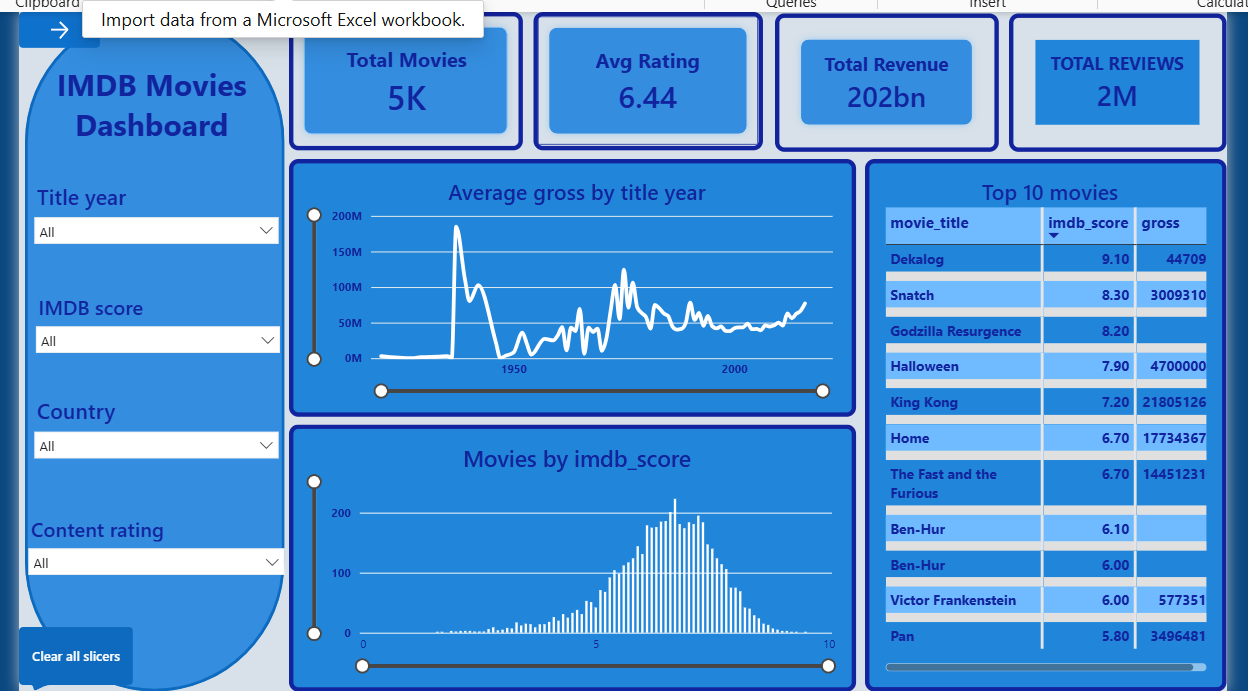

What the dashboard file says about the page in this screenshot:
{"tool":"powerbi","page":{"name":"dashboard","canvas":[1280,720],"ordinal":0},"visuals":[{"type":"cardVisual","fields":{"Data":["IMDBMovies.Total Movies"]},"box":[295.9,0,230.6,147.9],"z":0},{"type":"cardVisual","fields":{"Data":["IMDBMovies.Avg Rating"]},"box":[542.4,0,232.2,146.3],"z":1000},{"type":"cardVisual","fields":{"Data":["IMDBMovies.Total Revenue"]},"box":[788.9,1.6,243.4,144.7],"z":2000},{"type":"cardVisual","fields":{"Data":["IMDBMovies.TOTAL REVIEWS"]},"box":[1049.8,0,230.6,146.3],"z":3000},{"type":"lineChart","title":"Average gross by title year","fields":{"Y":["Avg(IMDBMovies.gross)"],"Category":["IMDBMovies.title_year"]},"box":[286.3,149.5,601.3,281.5],"z":4000},{"type":"tableEx","title":"Top 10 movies","fields":{"Values":["IMDBMovies.movie_title","IMDBMovies.imdb_score","IMDBMovies.gross"]},"box":[897.1,155.9,383.3,564.7],"z":5000},{"type":"columnChart","title":"Movies by imdb_score","fields":{"Category":["IMDBMovies.imdb_score"],"Y":["CountNonNull(IMDBMovies.movie_title)"]},"box":[295.9,437.4,591.7,283.1],"z":6000},{"type":"shape","box":[6.4,0,275.2,720.5],"z":7000},{"type":"slicer","fields":{"Values":["IMDBMovies.imdb_score"]},"box":[12.7,297.4,268.8,90.7],"z":8000},{"type":"slicer","fields":{"Values":["IMDBMovies.country"]},"box":[11.1,407.2,268.8,89.1],"z":9000},{"type":"slicer","fields":{"Values":["IMDBMovies.content_rating"]},"box":[4.8,532.9,281.5,93.8],"z":10000},{"type":"slicer","fields":{"Values":["IMDBMovies.title_year"]},"box":[11.1,179.7,268.8,79.5],"z":11000},{"type":"textbox","box":[6.4,54.1,268.8,92.3],"z":12000},{"type":"actionButton","box":[0,652.2,160.7,68.4],"z":13000}]}

Visuals, with their boxes in screenshot pixels (x1, y1, x2, y2):
cardVisual - IMDBMovies.Total Movies: <bbox>294, 10, 512, 150</bbox>
cardVisual - IMDBMovies.Avg Rating: <bbox>527, 10, 747, 148</bbox>
cardVisual - IMDBMovies.Total Revenue: <bbox>761, 11, 992, 148</bbox>
cardVisual - IMDBMovies.TOTAL REVIEWS: <bbox>1008, 10, 1227, 148</bbox>
"Average gross by title year" lineChart: <bbox>284, 152, 855, 418</bbox>
"Top 10 movies" tableEx: <bbox>864, 158, 1227, 690</bbox>
"Movies by imdb_score" columnChart: <bbox>294, 424, 855, 690</bbox>
shape: <bbox>19, 10, 280, 690</bbox>
slicer - IMDBMovies.imdb_score: <bbox>25, 292, 280, 378</bbox>
slicer - IMDBMovies.country: <bbox>24, 396, 278, 480</bbox>
slicer - IMDBMovies.content_rating: <bbox>18, 515, 284, 604</bbox>
slicer - IMDBMovies.title_year: <bbox>24, 180, 278, 256</bbox>
textbox: <bbox>19, 61, 274, 149</bbox>
actionButton: <bbox>13, 628, 165, 690</bbox>
